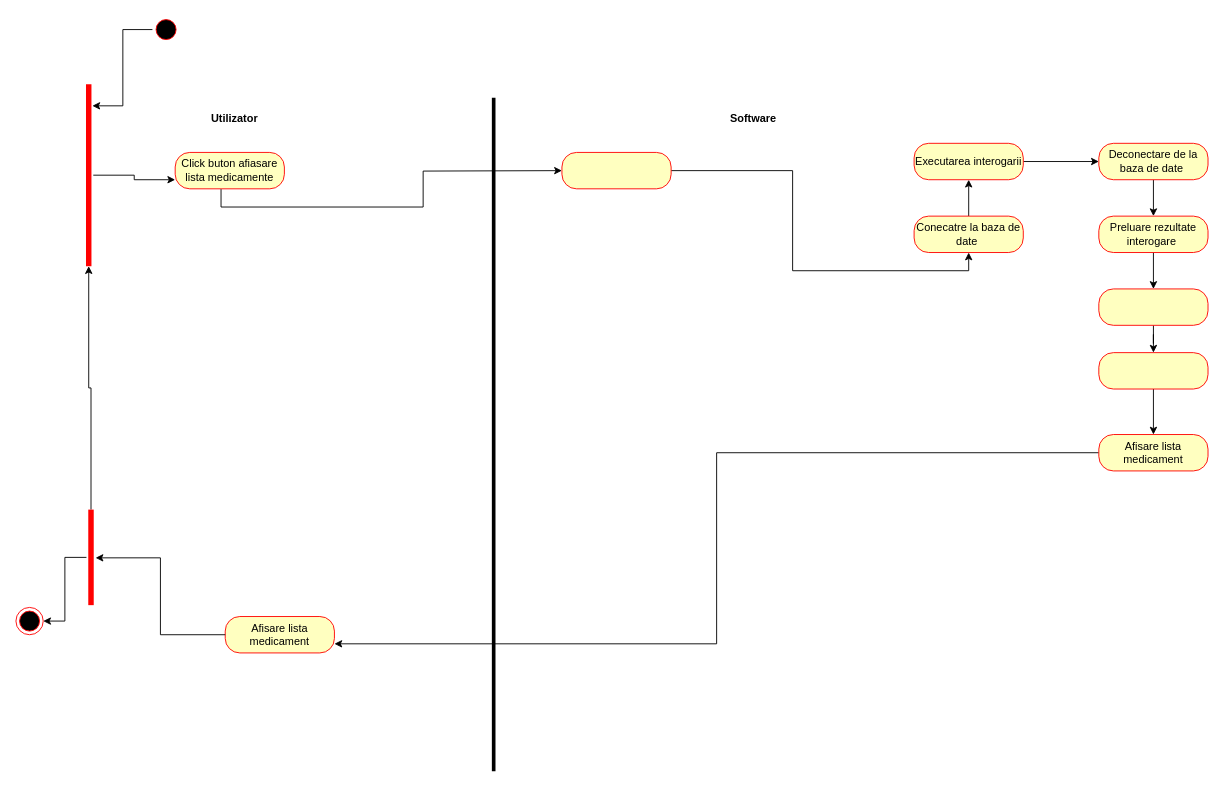
The diagram is 1224 pixels wide and 789 high, and some of its shapes have lost their labels. Each missing label, with the centre of its shape:
"Afisare mesaj succes" belongs at (x=1153, y=370).
"Analiza rezultat" belongs at (x=1153, y=306).
"Creare interogare" belongs at (x=616, y=170).
